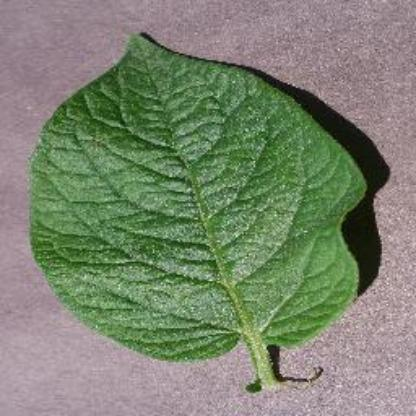Healthy-plant: (26, 26, 376, 393)
